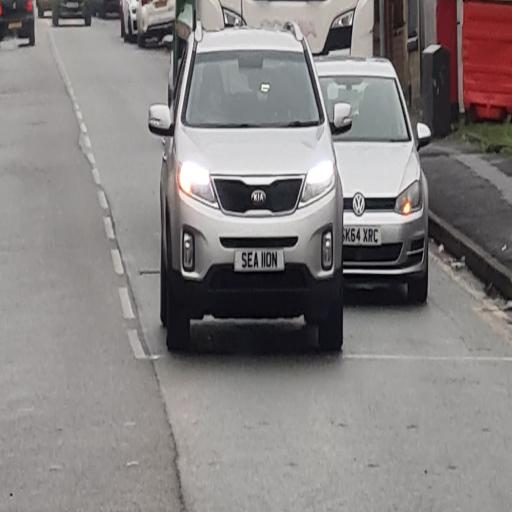numberplates: (235, 249, 284, 271), (342, 226, 382, 246), (154, 0, 167, 8), (8, 22, 22, 29), (67, 3, 78, 8)
